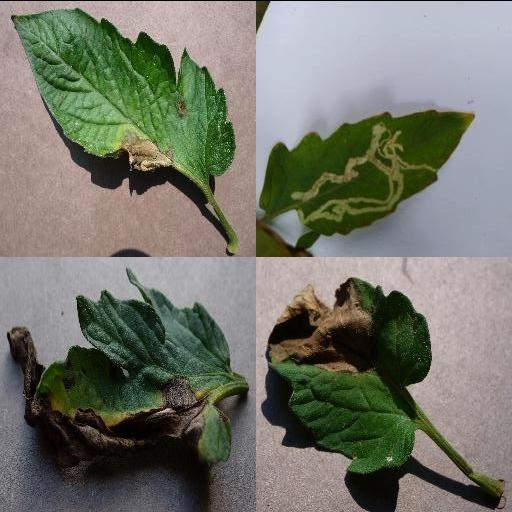Early Blight: (31, 265, 235, 471)
Late Blight: (10, 6, 234, 174), (265, 274, 433, 472)
Leaf Miner: (258, 107, 477, 235)
